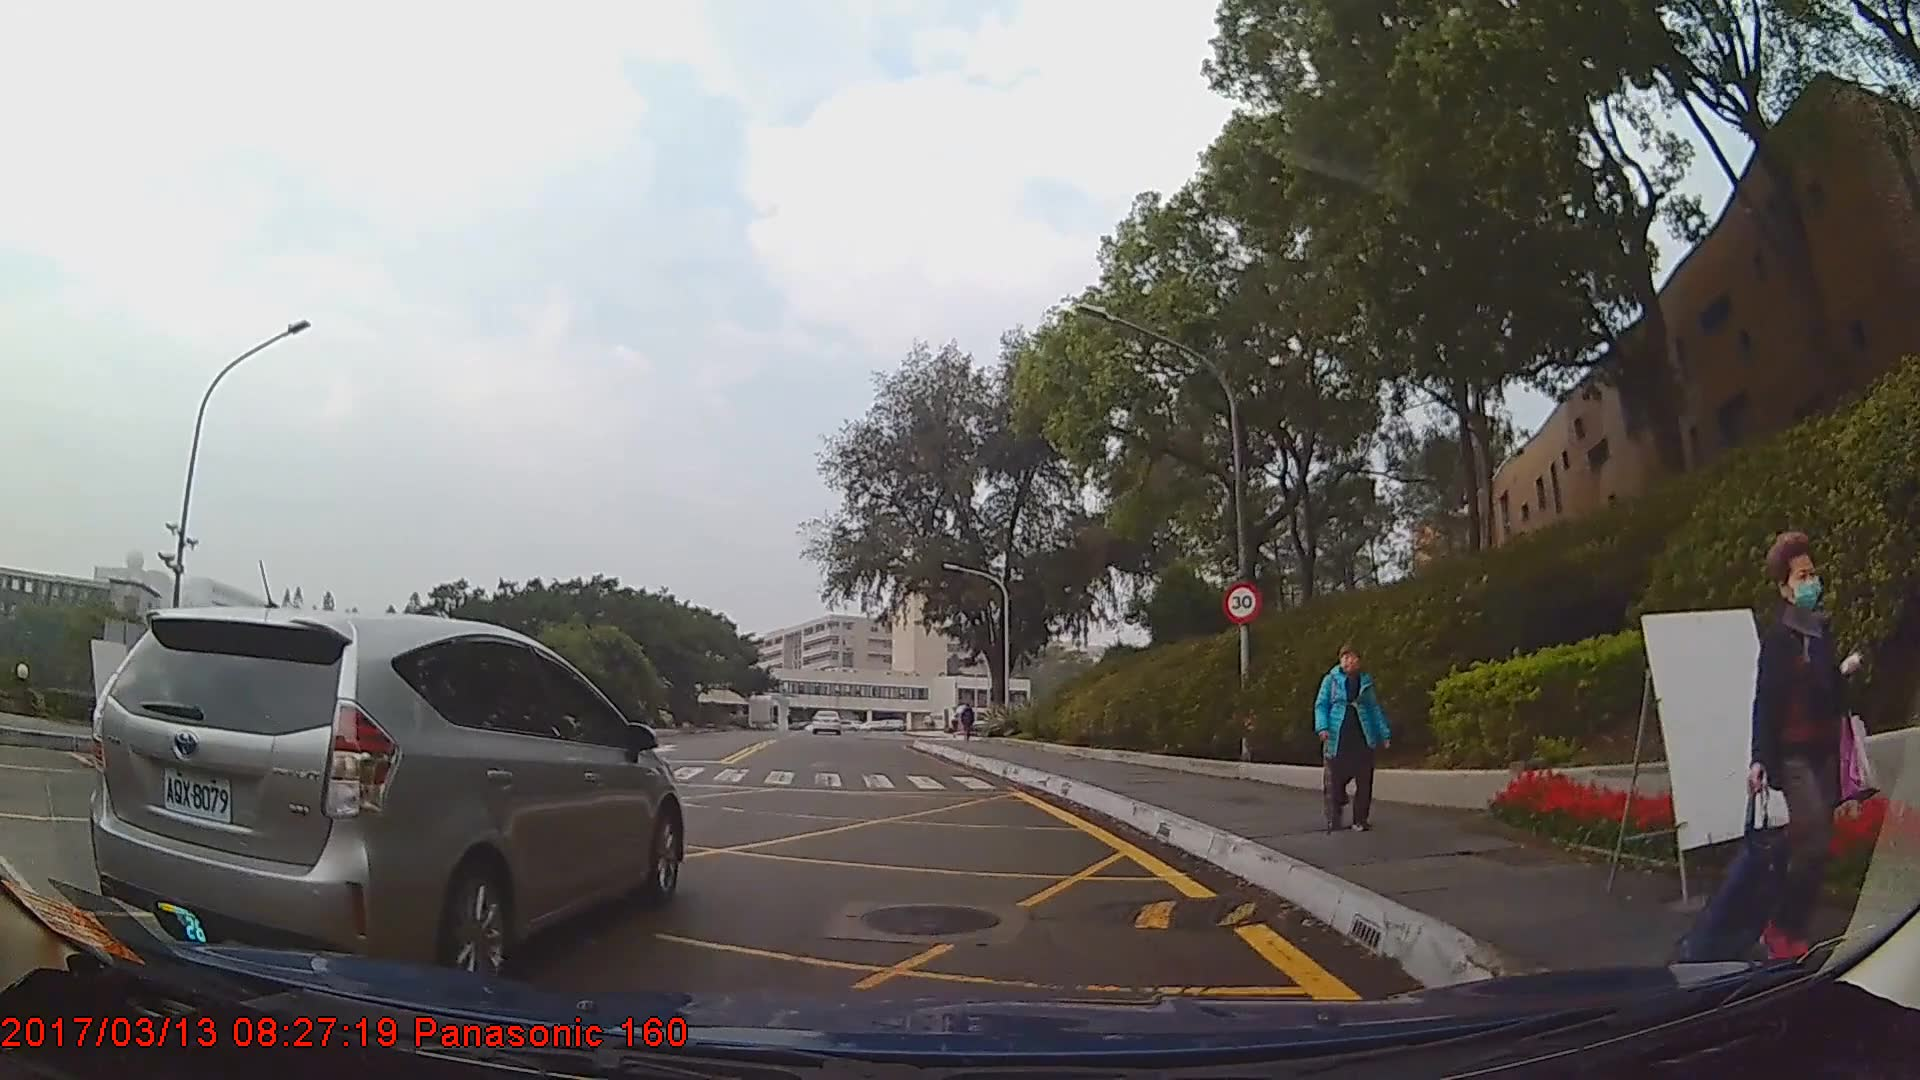pedestrian: (1693, 535, 1892, 980), (1304, 633, 1402, 846), (958, 703, 978, 743)
vehicle: (85, 605, 683, 982), (808, 705, 842, 732)
